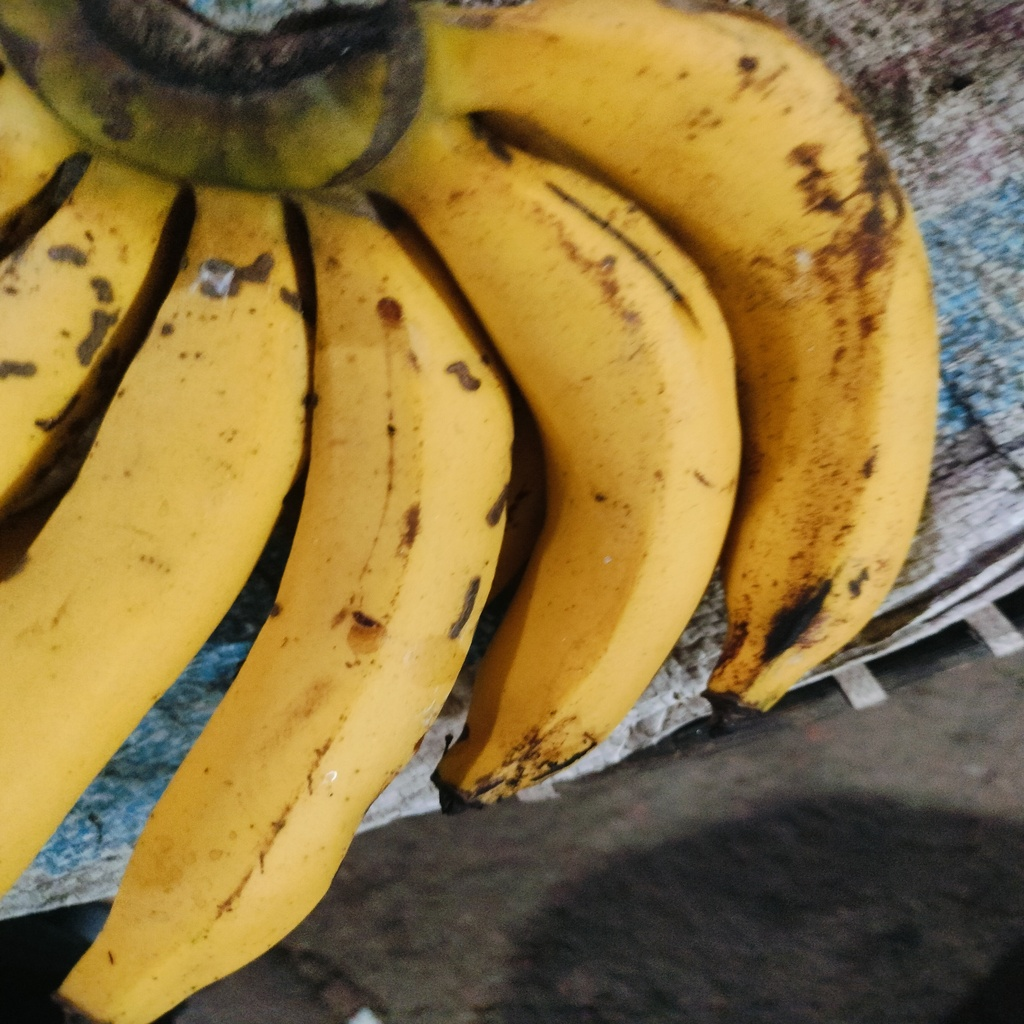unhealthy: (63, 204, 525, 1024), (540, 6, 933, 686), (438, 157, 740, 802)
